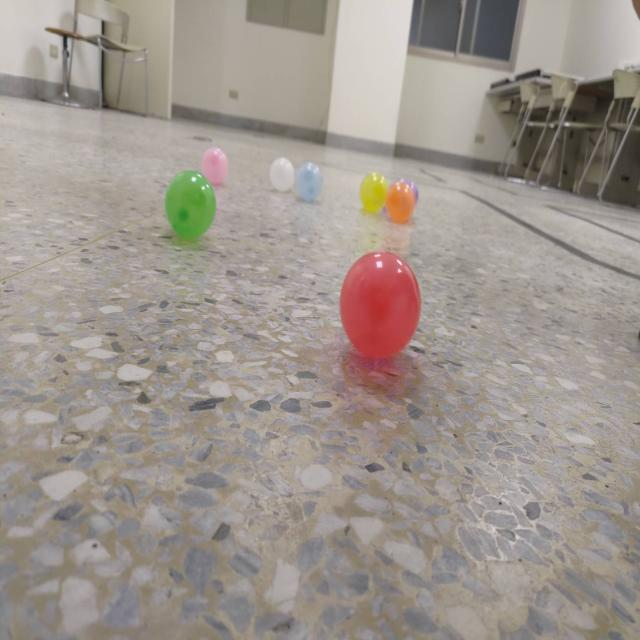other: (166, 169, 216, 237), (386, 180, 414, 221), (294, 162, 322, 202), (361, 172, 388, 213), (201, 146, 229, 184), (270, 157, 294, 191)
red: (340, 248, 420, 357)
